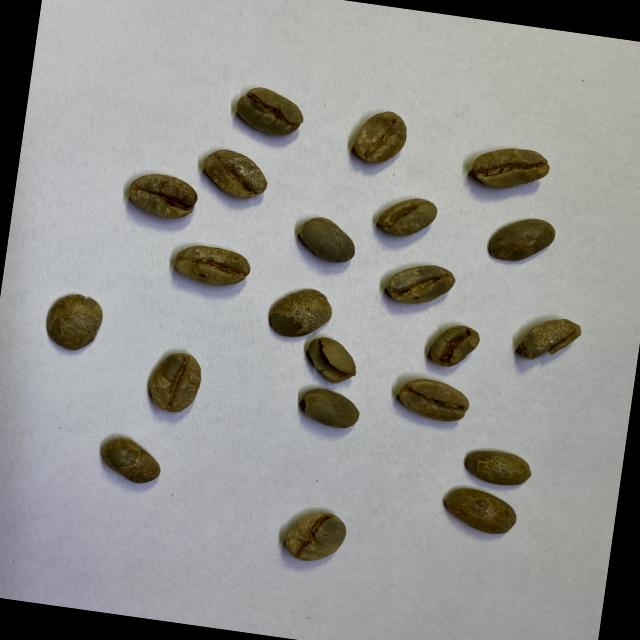bad: (281, 506, 350, 566), (350, 107, 410, 168), (516, 313, 582, 368), (302, 335, 360, 388), (300, 386, 362, 432), (428, 322, 482, 374)
good: (198, 146, 272, 204), (143, 348, 205, 417), (470, 142, 550, 195), (440, 485, 520, 537), (42, 290, 106, 355), (485, 212, 559, 268), (266, 284, 336, 342), (124, 170, 200, 223), (172, 242, 254, 291), (234, 84, 307, 138), (394, 374, 472, 424), (96, 433, 166, 488), (386, 260, 458, 312), (296, 214, 360, 266), (374, 191, 440, 241), (462, 444, 534, 488)
